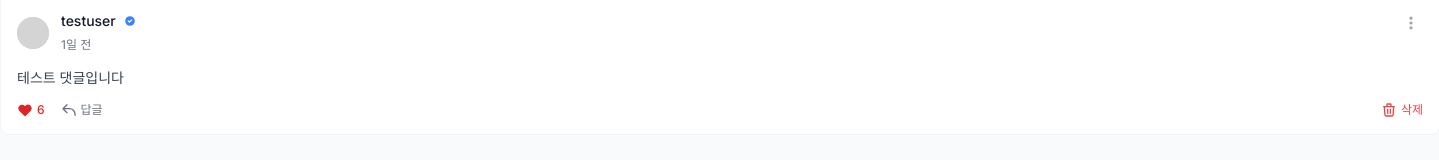
it: Comment › Like functionality › should handle unlike
The image size is (1439, 160).
Click the button "6" at (31, 110), box [17,102,45,118]
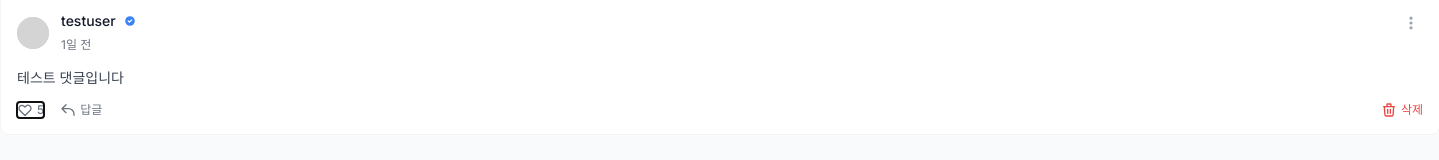
expect the button "5" is shown: met, box [17,102,44,118]
